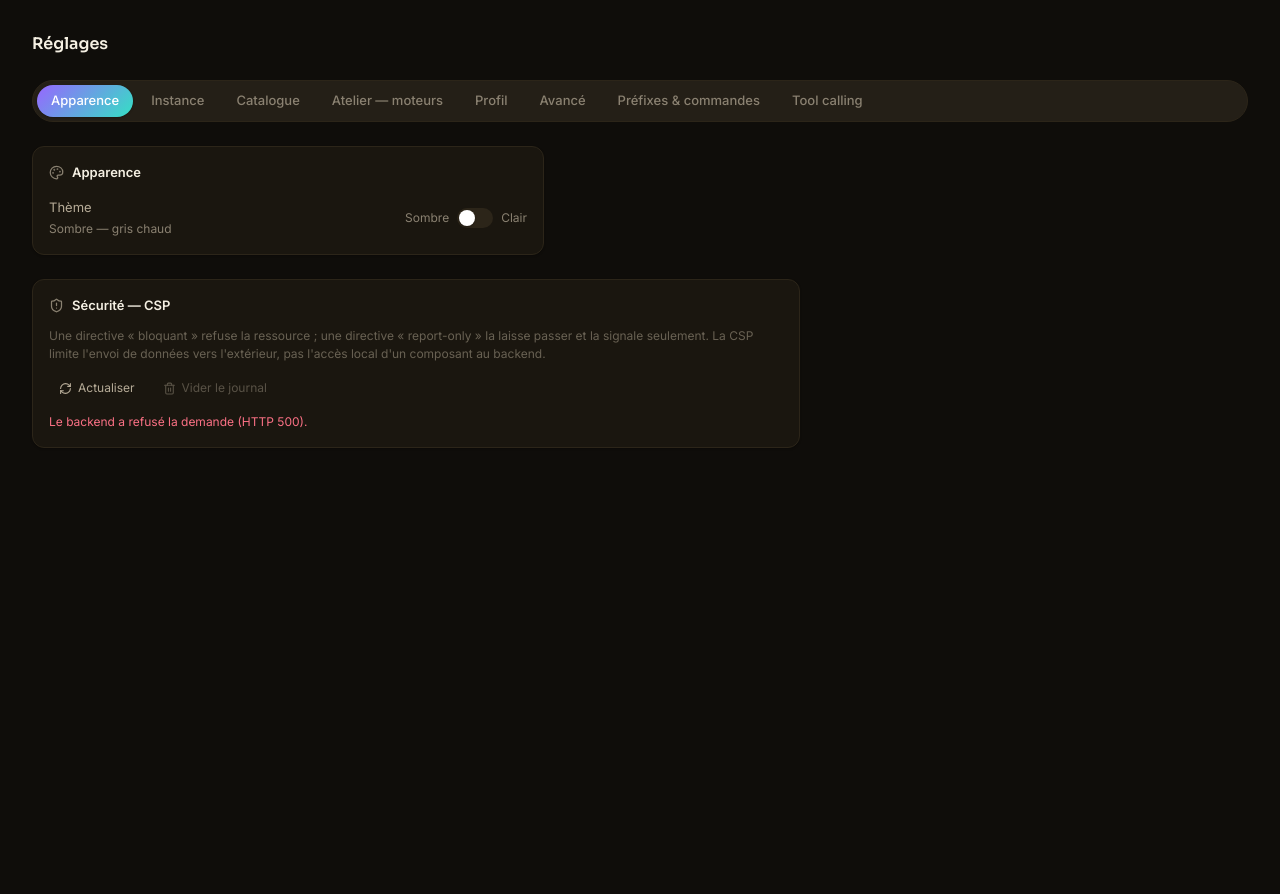
Test case: Réglages — Tool calling › la recherche filtre aussi les skills personnalisés agentiques, par nom et description
This screenshot has width=1280, height=894.
Click the button "Tool calling" at (827, 101), box [778,85,877,116]
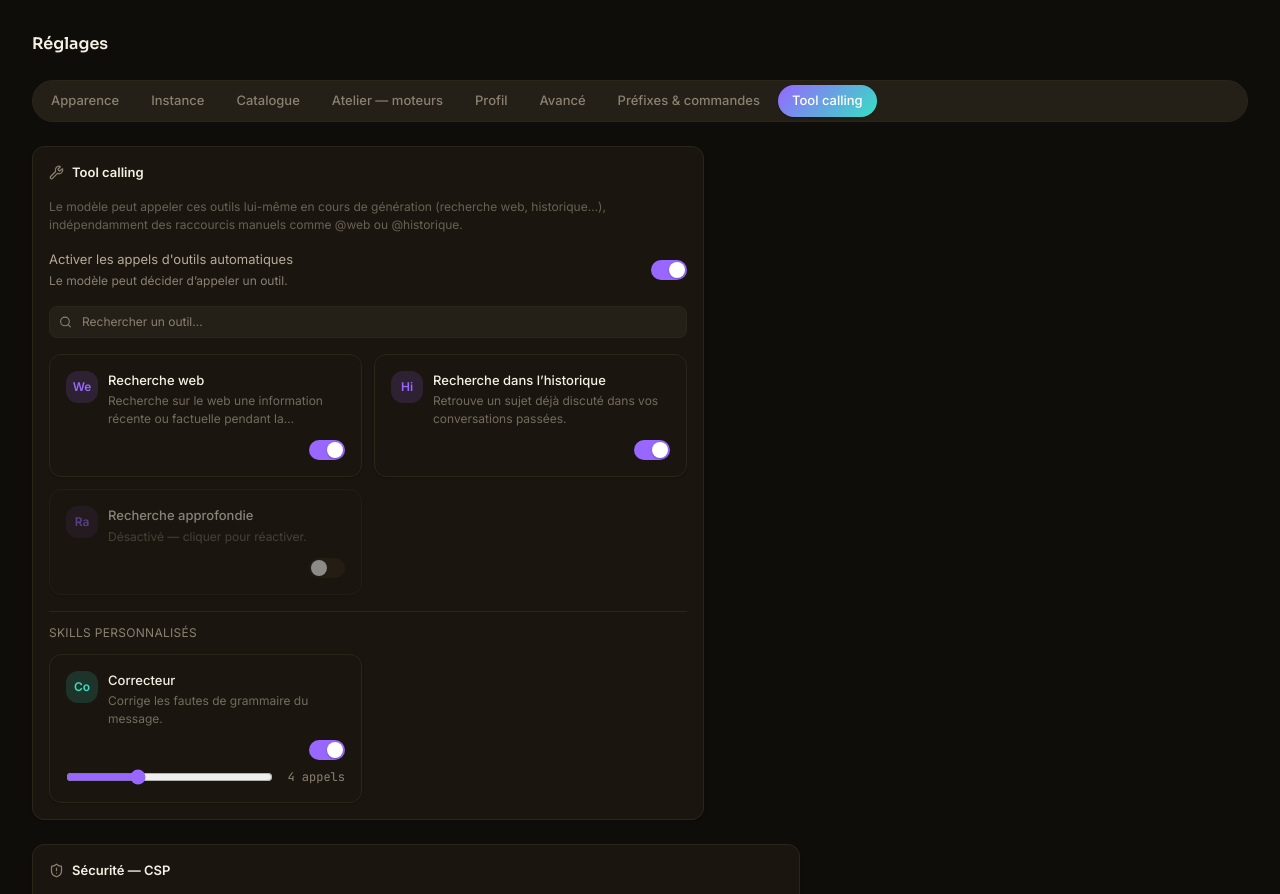
Type "correcteur" into the field with placeholder "Rechercher un outil…" at (368, 322), box [49,306,687,338]
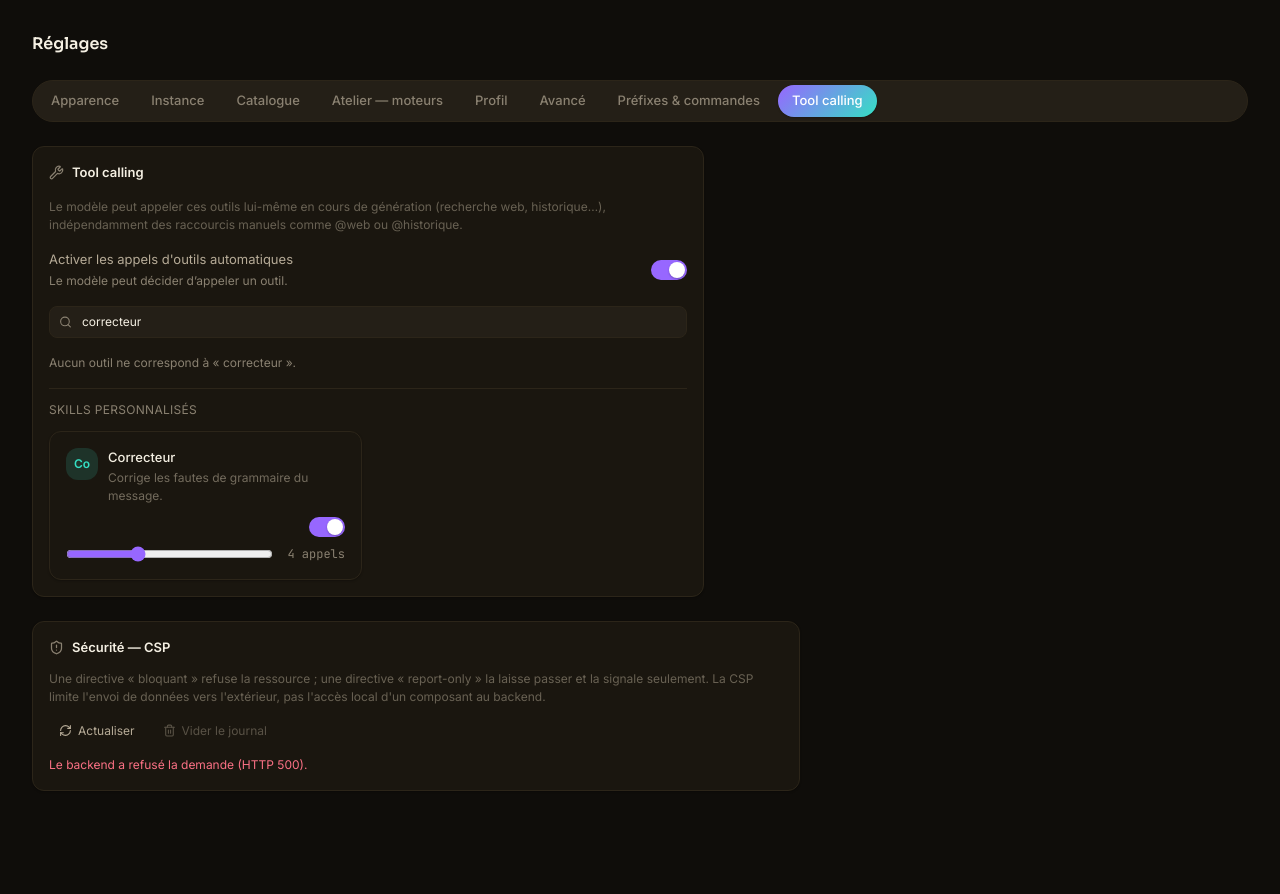
Expected: the text "Correcteur" is shown, [108,448,175,464]
Replace the text in the field with placeholder "Rechercher un outil…" with "historique" at (368, 322), box [49,306,687,338]
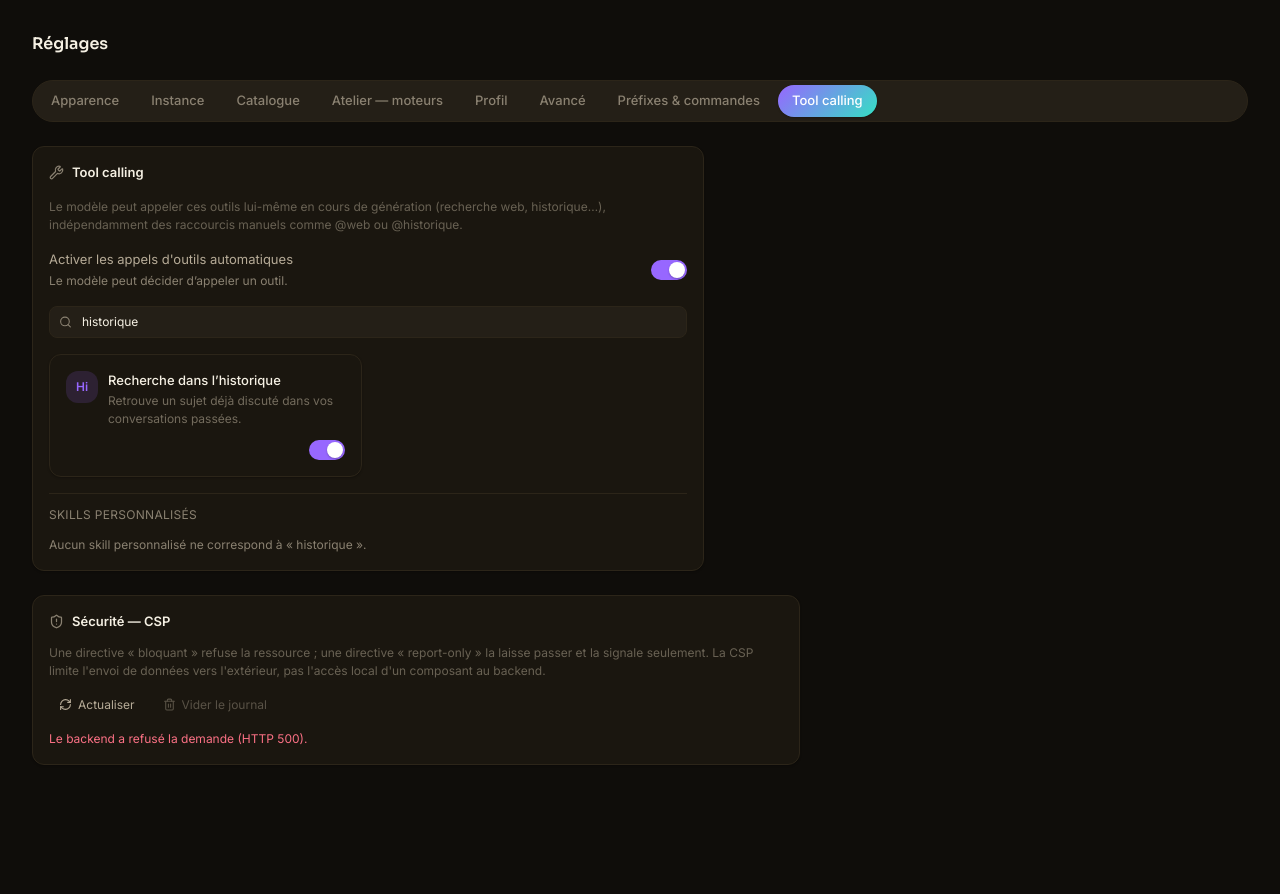
Expected: the text "correcteur" is gone
